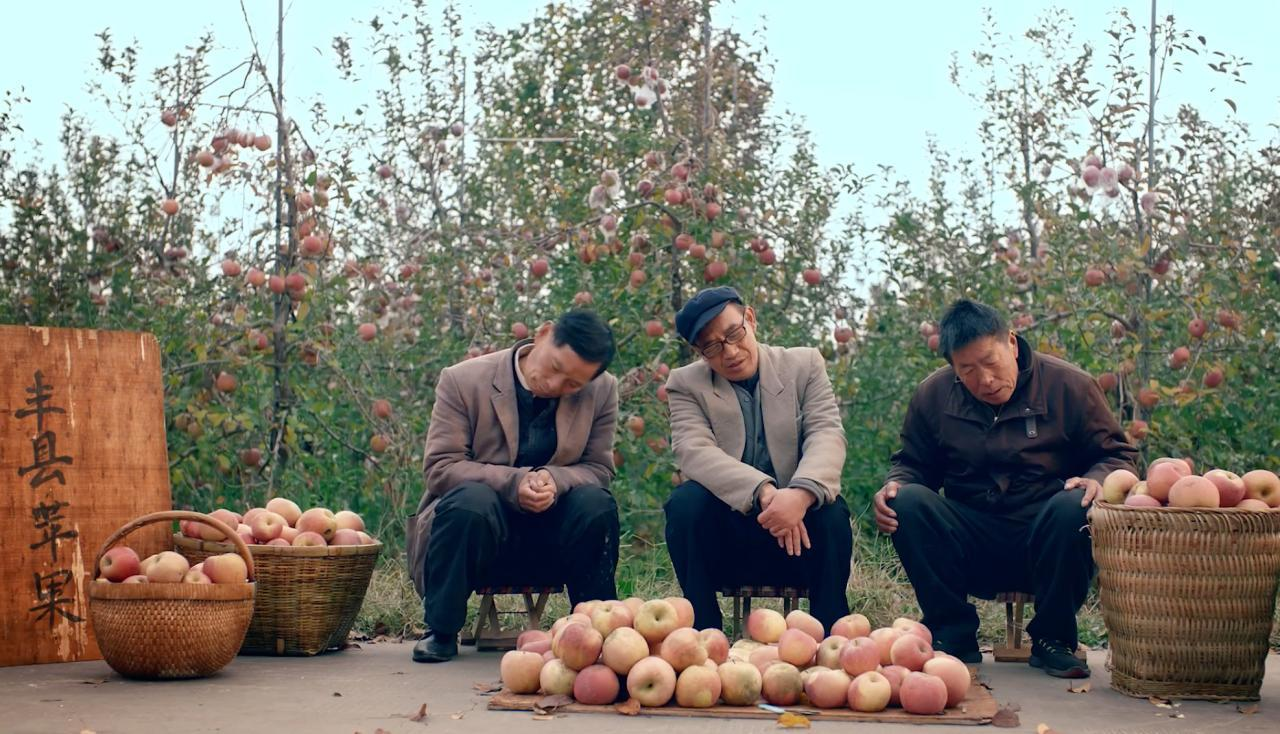apple: (923, 656, 969, 704), (603, 628, 648, 673), (627, 658, 672, 703), (557, 624, 601, 669), (675, 665, 721, 708), (499, 649, 543, 693), (901, 670, 947, 710), (662, 629, 706, 670), (719, 662, 761, 704), (573, 666, 617, 704), (847, 673, 891, 711), (293, 507, 338, 542), (633, 600, 675, 637), (746, 608, 787, 644), (779, 629, 817, 666), (763, 665, 802, 701), (807, 669, 846, 705), (891, 636, 934, 668), (589, 601, 630, 634), (841, 641, 879, 674), (542, 660, 574, 699), (787, 610, 823, 642), (832, 614, 871, 640), (700, 627, 728, 663)
